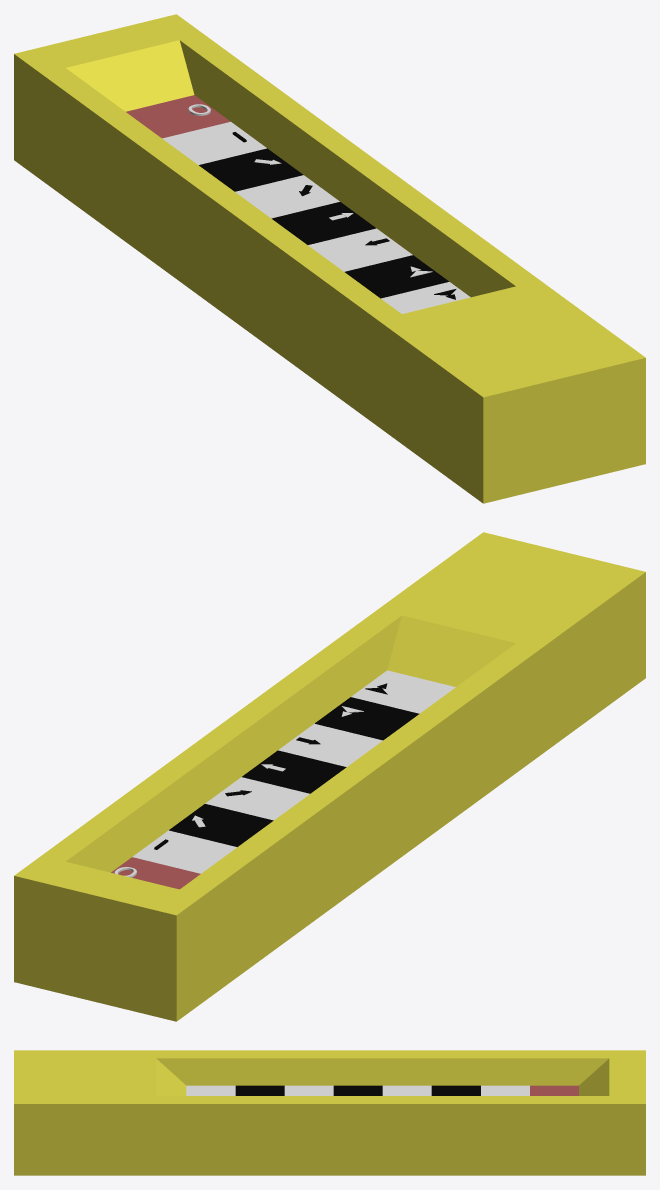
The model's file is Remote_Control.fbx.
The picture shows the model from 3 angles, top to bottom: view 1: azimuth 30°, elevation 25°; view 2: azimuth 150°, elevation 25°; view 3: azimuth 270°, elevation 25°; orthographic projection. The views are drawn at different scales.
Visible parts, largest first — view 1: Remote_Control; view 2: Remote_Control; view 3: Remote_Control.
Part boxes in pixels (x1=…): Remote_Control: x1=14, y1=14, x2=645, y2=503; Remote_Control: x1=14, y1=532, x2=645, y2=1021; Remote_Control: x1=14, y1=1050, x2=645, y2=1175.
Size of the model in its own units: 80 by 50 by 400.
